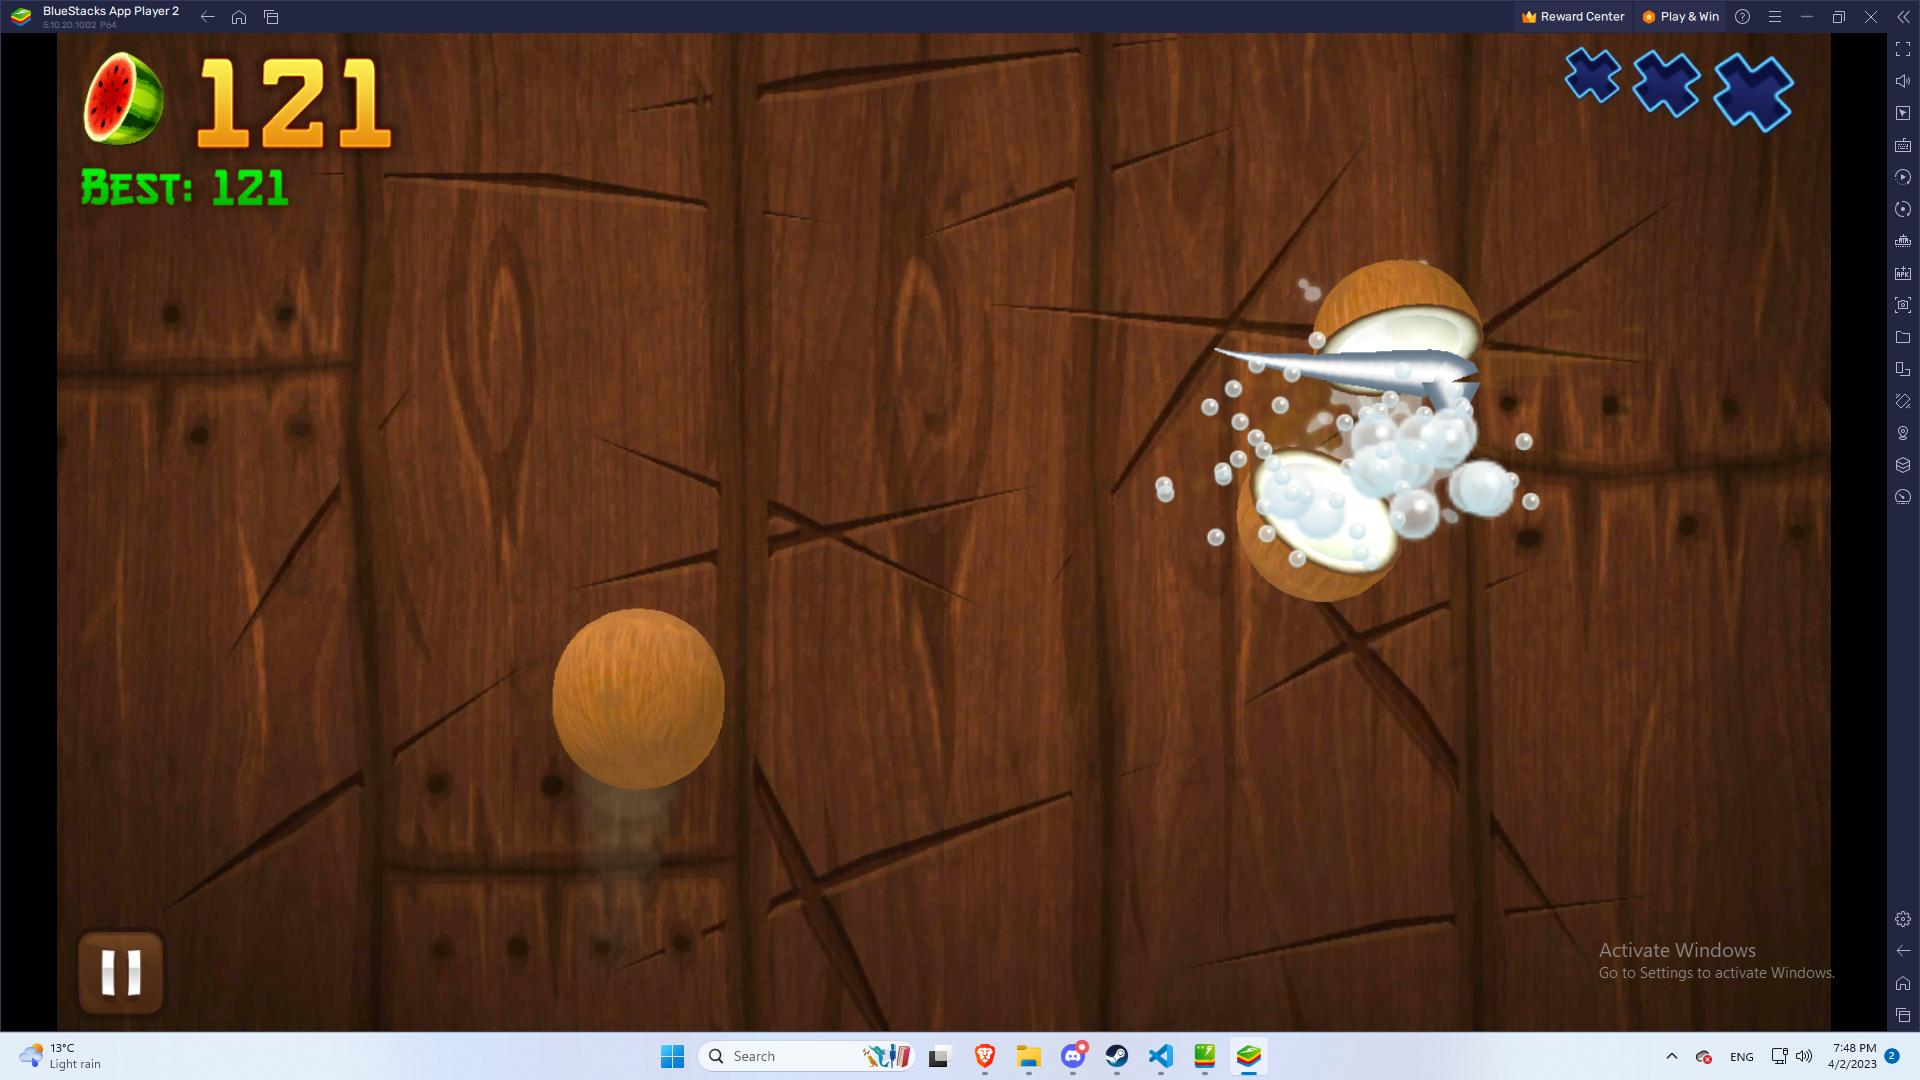fruit: (512, 607, 762, 802)
